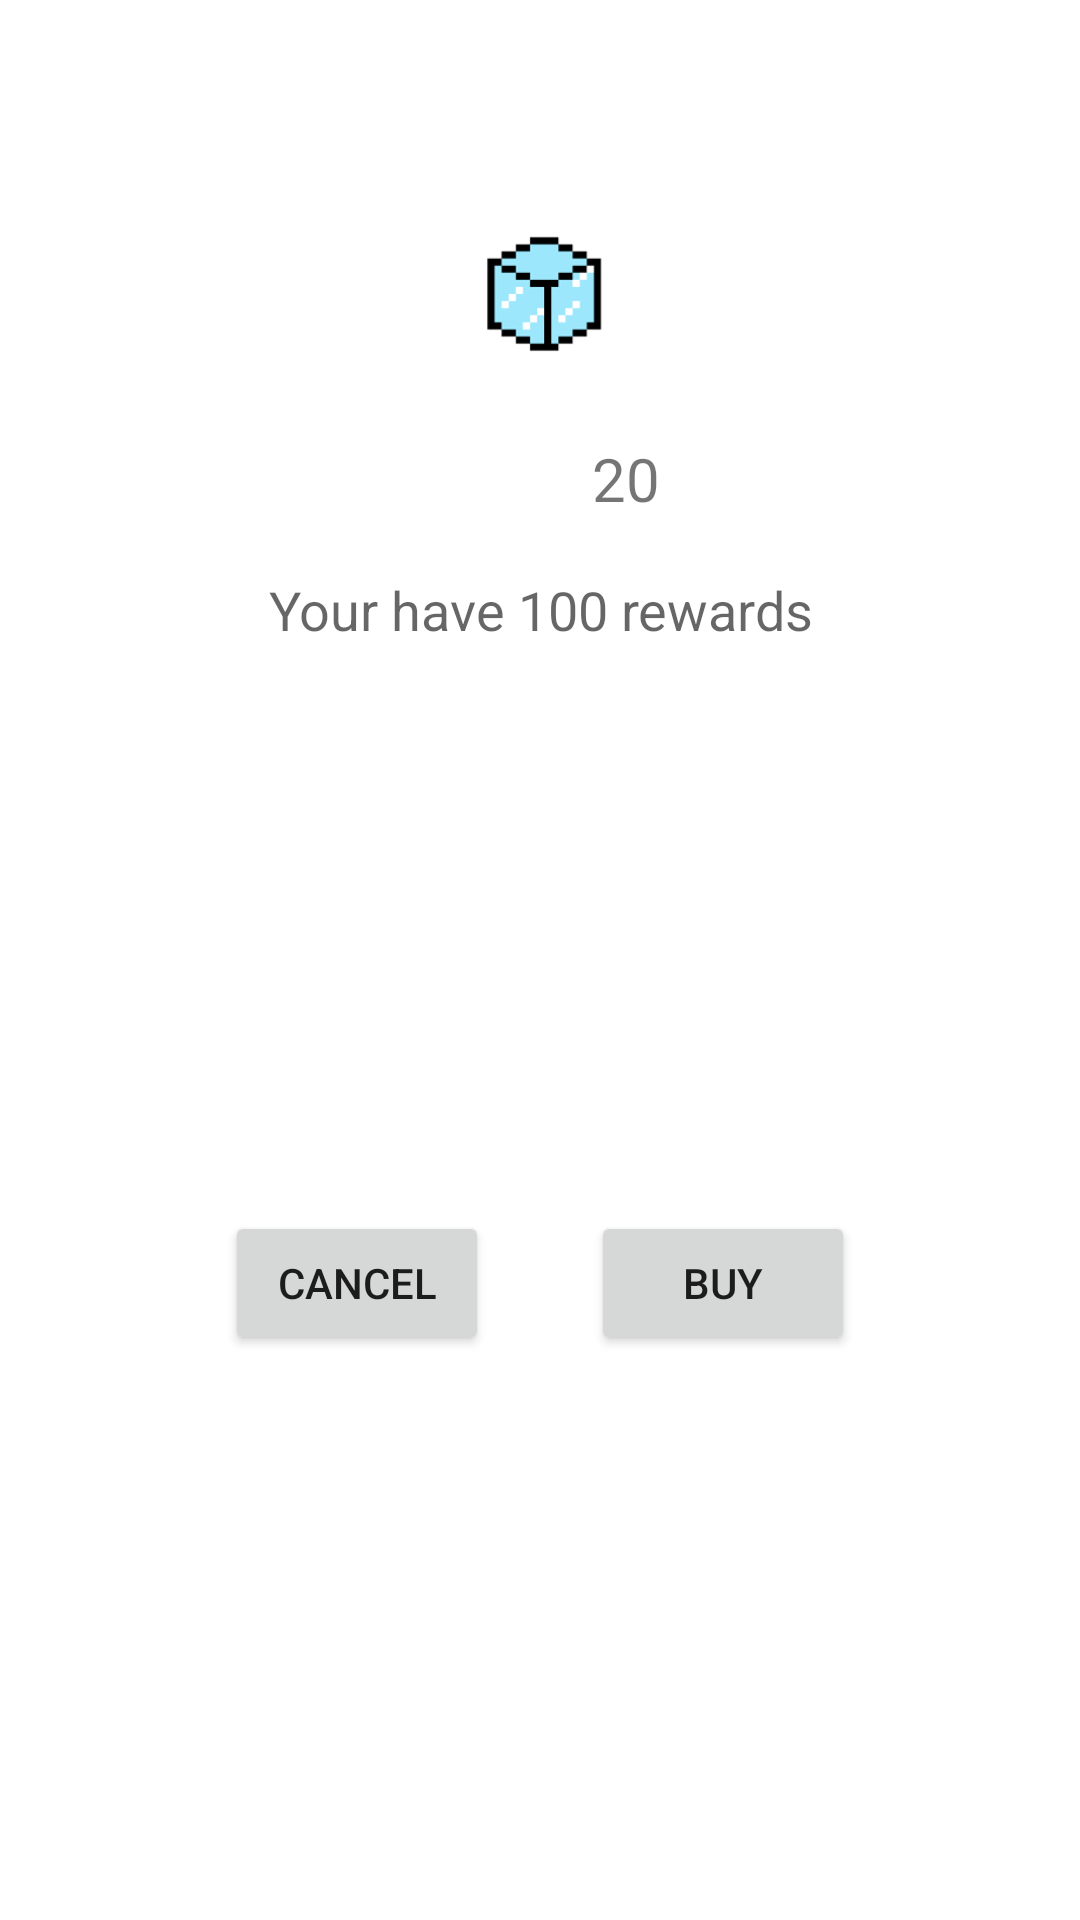

Icons on this 1080px×1920px Android screen, each with the point to tap as (x,y):
ice: (544,293)
